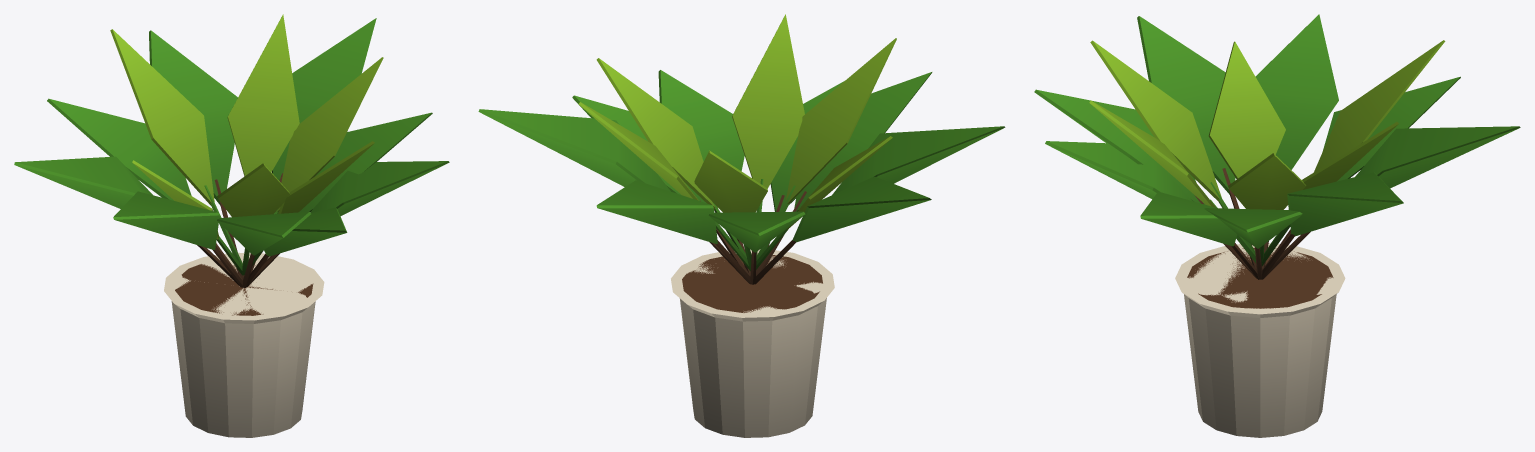
Rendered from plant_pot_01.glb.
3 views of the same model, side by side, from view 1: azimuth 30°, elevation 25°; view 2: azimuth 150°, elevation 25°; view 3: azimuth 270°, elevation 25° (orthographic). The views are drawn at different scales.
Visible parts, largest first — view 1: plant_pot_01_LOD0; view 2: plant_pot_01_LOD0; view 3: plant_pot_01_LOD0.
Part boxes in pixels (x1,y1,x2,y2): plant_pot_01_LOD0: [14, 14, 449, 437]; plant_pot_01_LOD0: [478, 14, 1005, 437]; plant_pot_01_LOD0: [1034, 14, 1520, 437].
Size of what is drawn, in the model's own units: 1.26 by 0.9936 by 1.26.
Materials: 1 (1 with a texture image).
